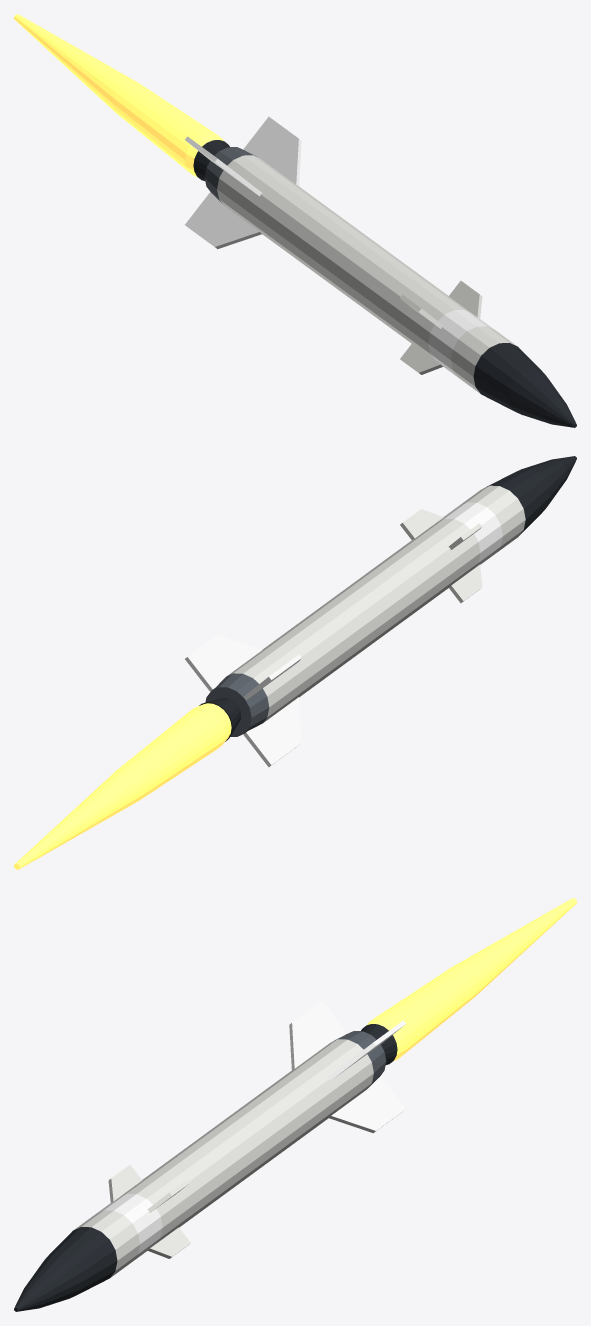
The model's file is sam_missile.glb.
The picture shows the model from 3 angles, top to bottom: view 1: azimuth 30°, elevation 25°; view 2: azimuth 150°, elevation 25°; view 3: azimuth 330°, elevation 25°; orthographic projection.
Visible parts, largest first — view 1: SAMMissile; view 2: SAMMissile; view 3: SAMMissile.
Boxes of the visible parts, x1,y1,x2,y2 form: SAMMissile: (14, 14, 576, 427); SAMMissile: (14, 456, 576, 869); SAMMissile: (14, 898, 576, 1311).
Bounding box in the file's own units: 0.1329 × 0.1329 × 1.48.
